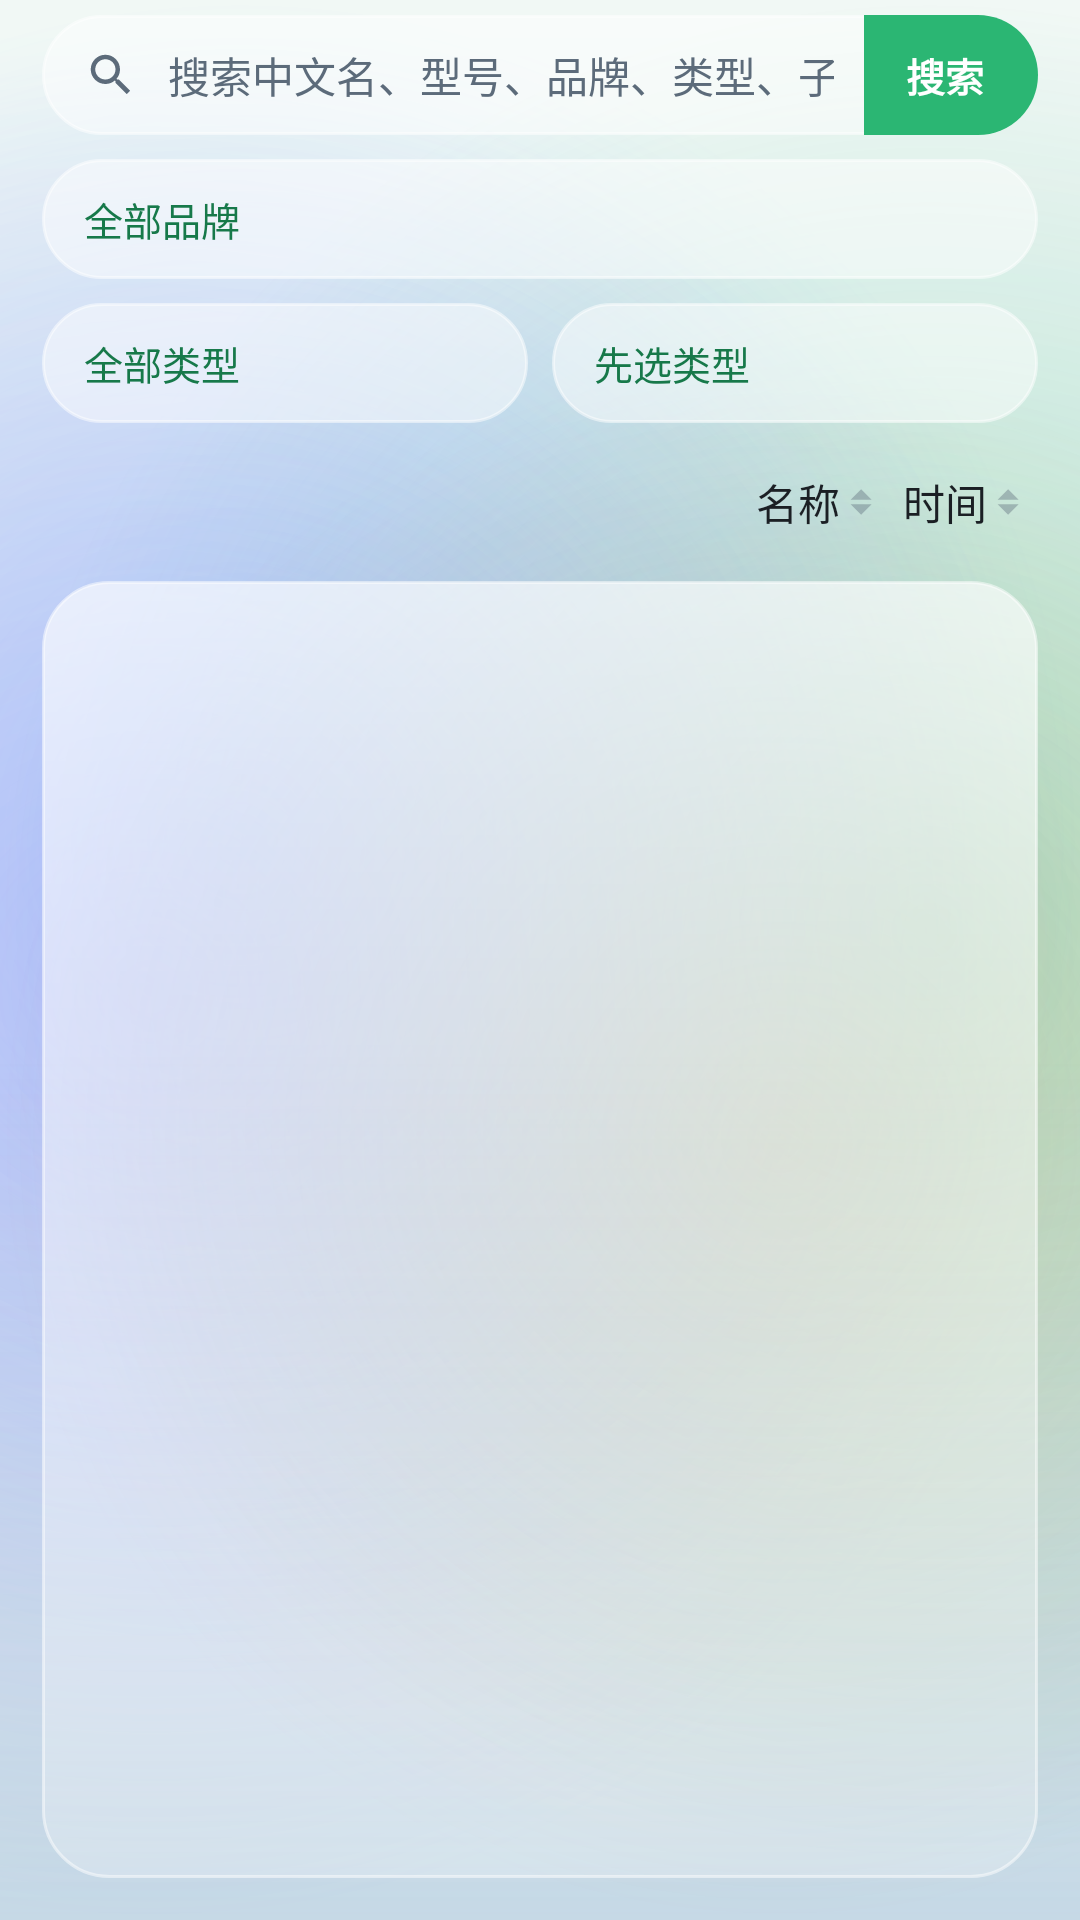

Where icons sit on this 1080×1920 app screen, as (x1, y1, x2, y2):
search glyph: (90, 54, 130, 94)
